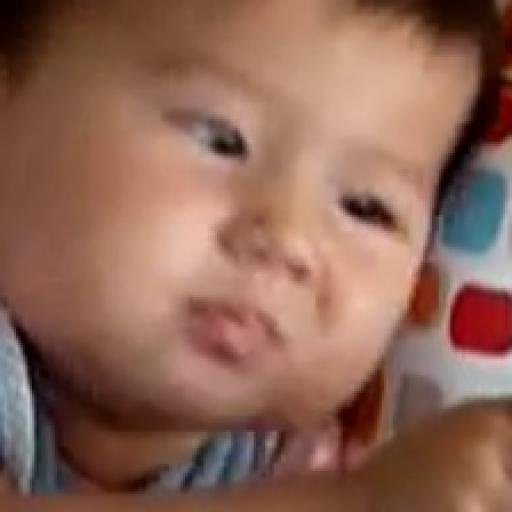Autism: (18, 0, 496, 436)
